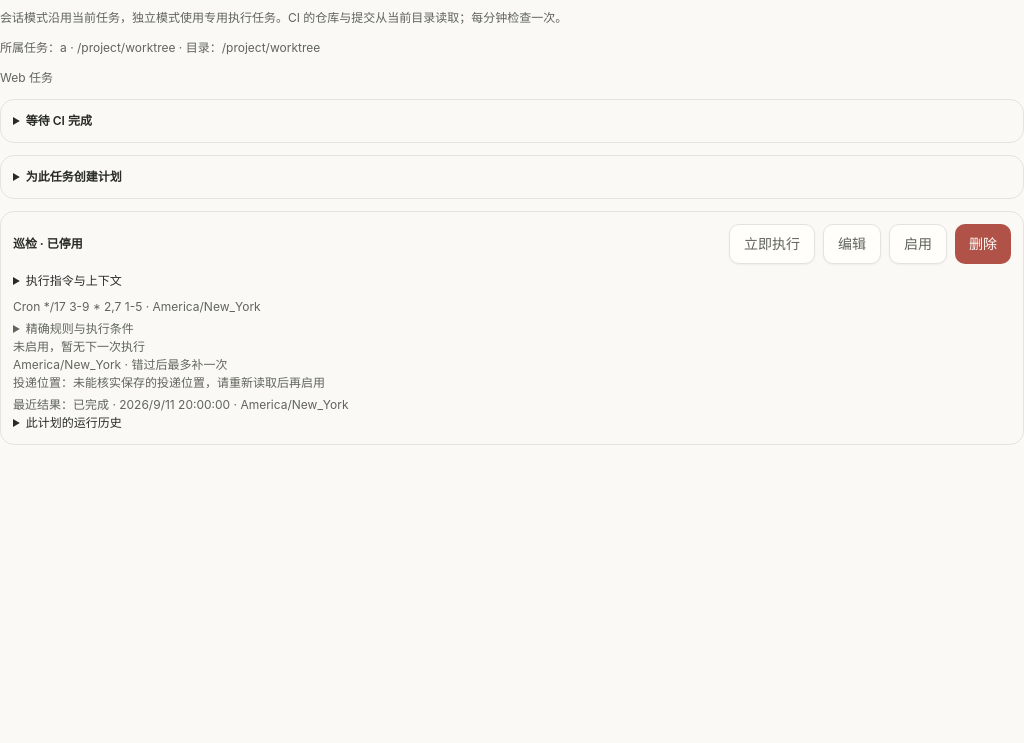
Test: session automation schedules › shows the newest twenty executions first and keeps result links in the owning instance
The image size is (1024, 743).
Expected: the text "巡检 · 已停用" is shown, [13,235,83,253]
Click the heading "此计划的运行历史". click: (74, 422)
box: [26,415,122,430]
(page scrolled)
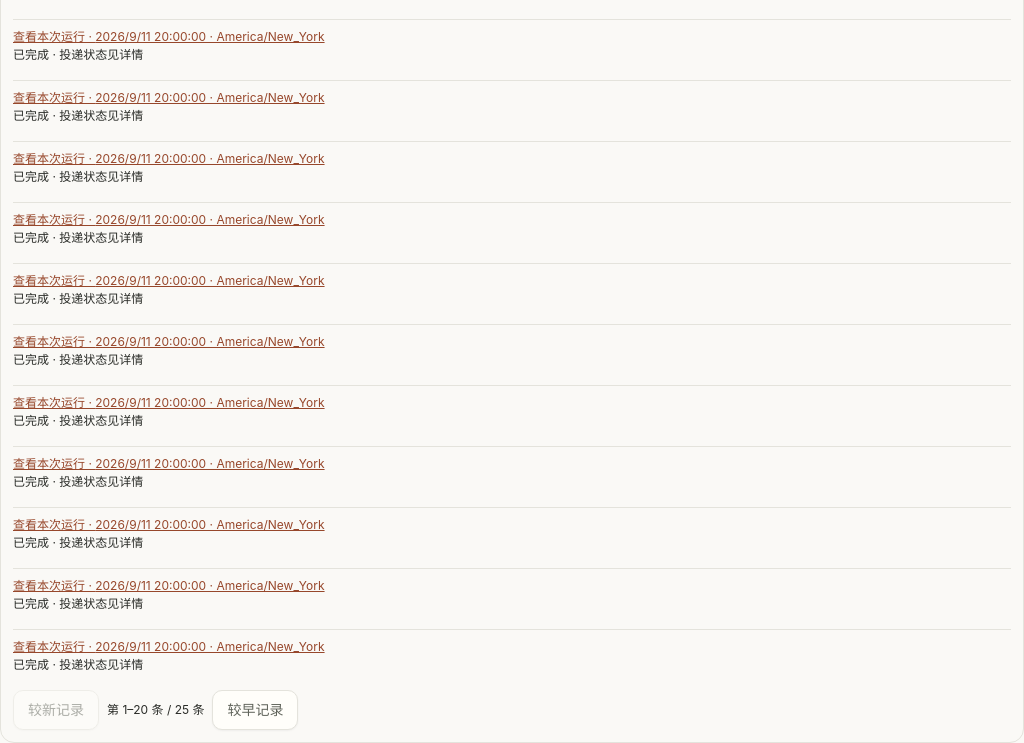
Click the button "较早记录". click: (256, 710)
box: [212,690,298,730]
(page scrolled)
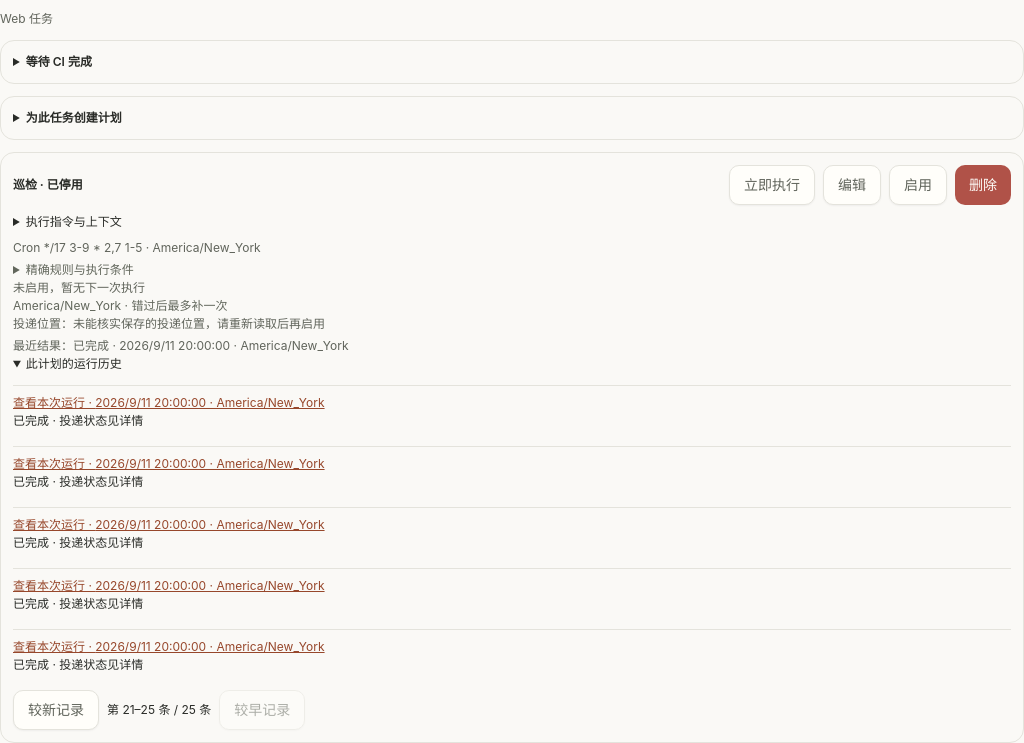
Expected: the number of links "查看本次运行 · 2026/9/11 20:00:00 · America/New_York" is 5, [13,395,325,410]; [13,456,325,471]; [13,517,325,532]; [13,578,325,593]; [13,639,325,654]
